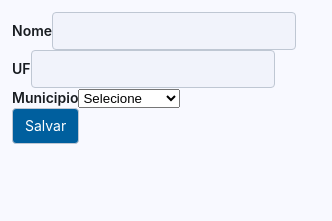
Scenario: FarmForm › mostra erro de validacao e preserva o valor digitado
Type "A" into the field labelled "Nome".
click(174, 31); type("A")  # box [52,12,296,50]
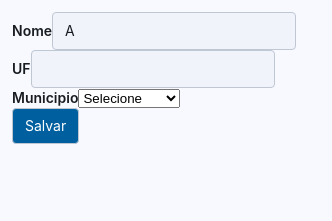
Click the button "Salvar".
click(46, 126)  # box [12,108,79,144]
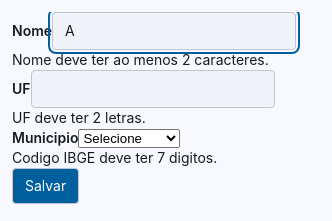
Check: the text "Nome deve ter ao menos 2 caracteres." is shown, box [12,51,269,68]
